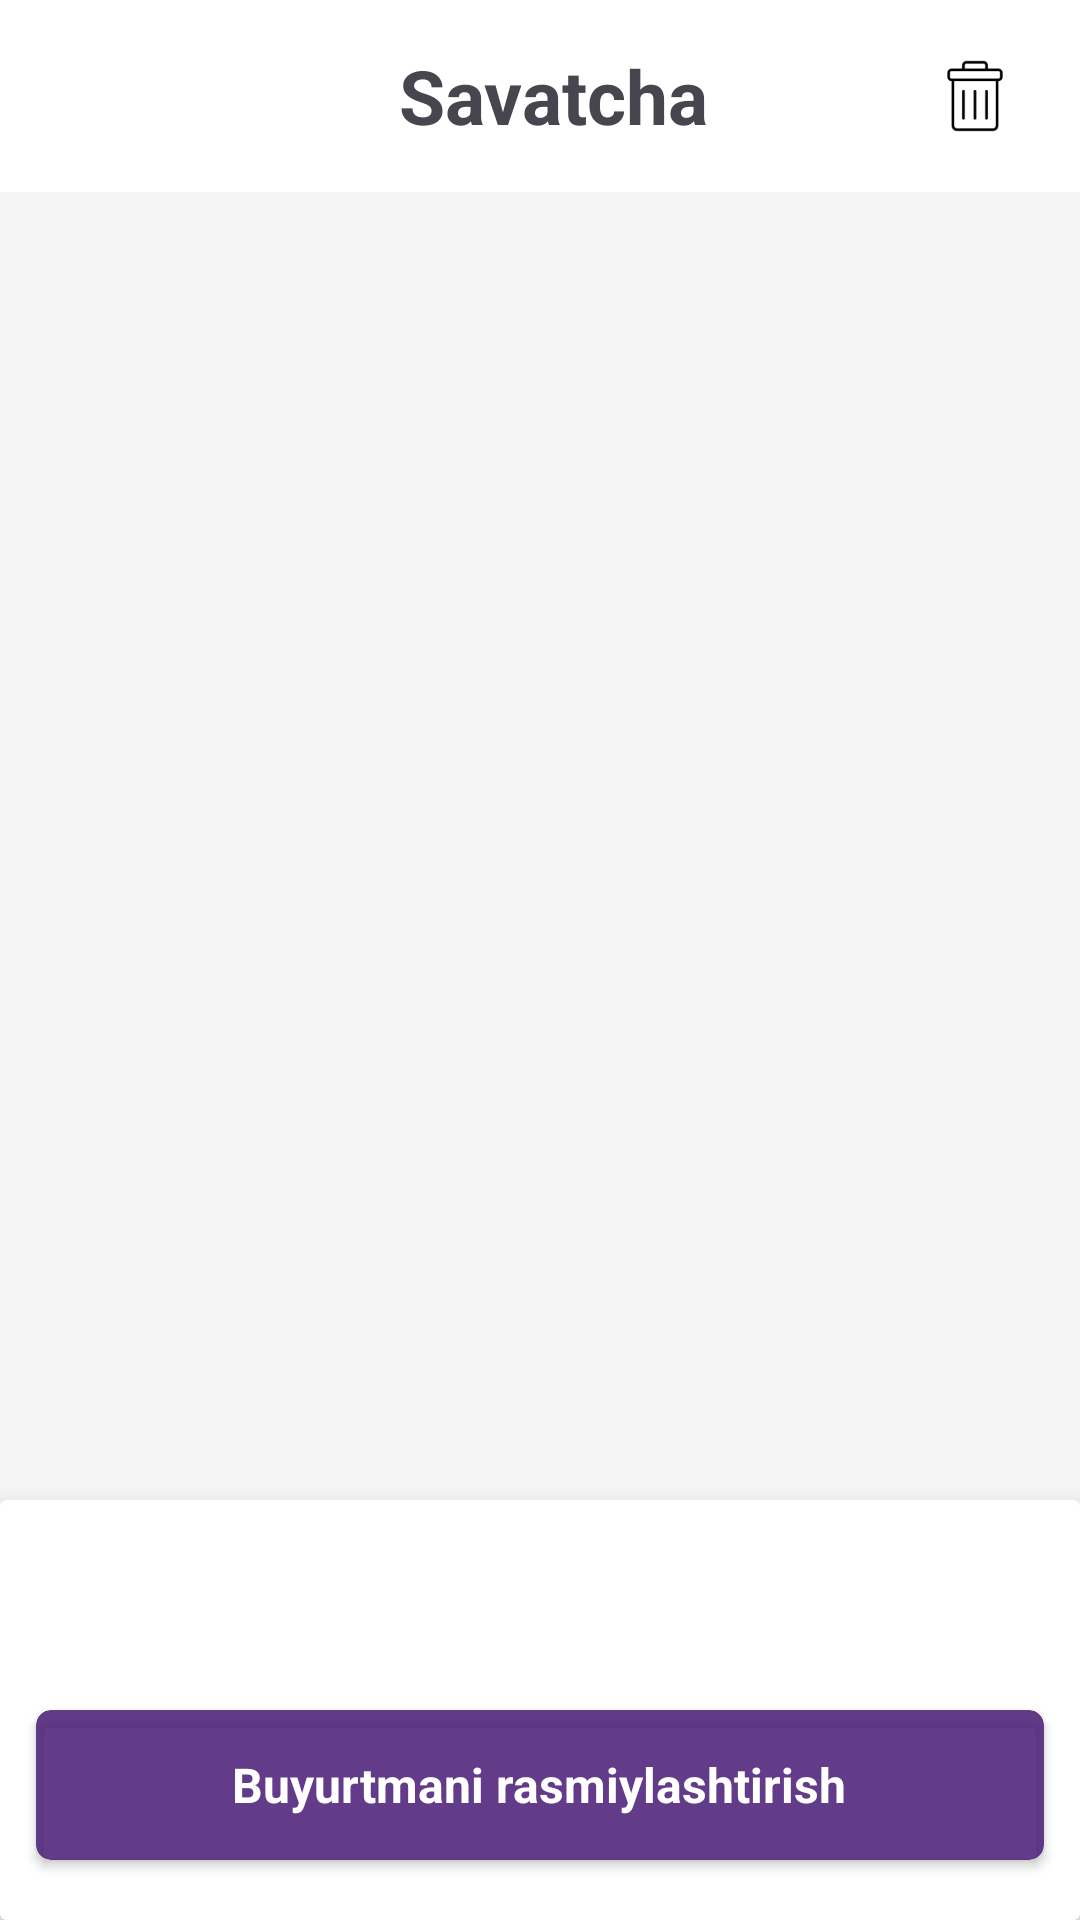

Icon click points for this 1080*1920 phone screenshot, format (x,y):
delate: (975,96)
